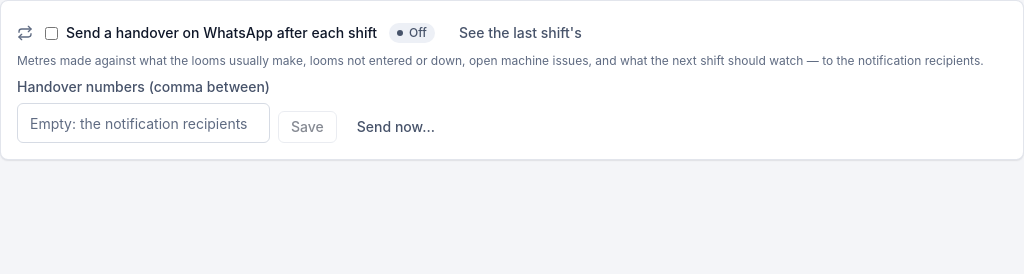
the shift handover › is off on a server that never set it, turns on, and shows the last shift's note
Click the checkbox named "Send the shift handover". click: click(52, 33)
box: [45, 26, 58, 40]
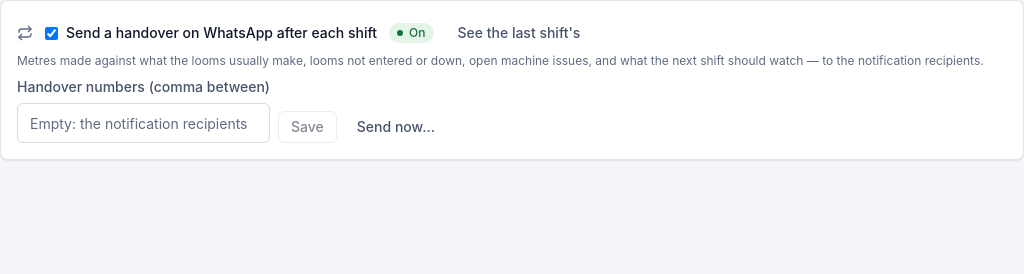
Click the button "See the last shift's". click: click(519, 33)
box: [446, 17, 592, 49]
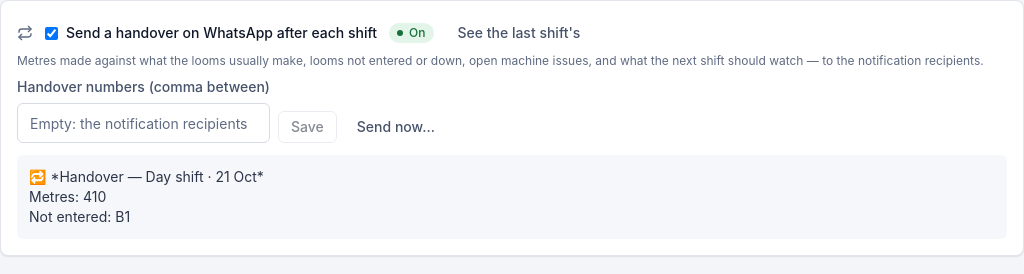
Now the text "Not entered: B1" is shown, box [29, 168, 264, 225]
